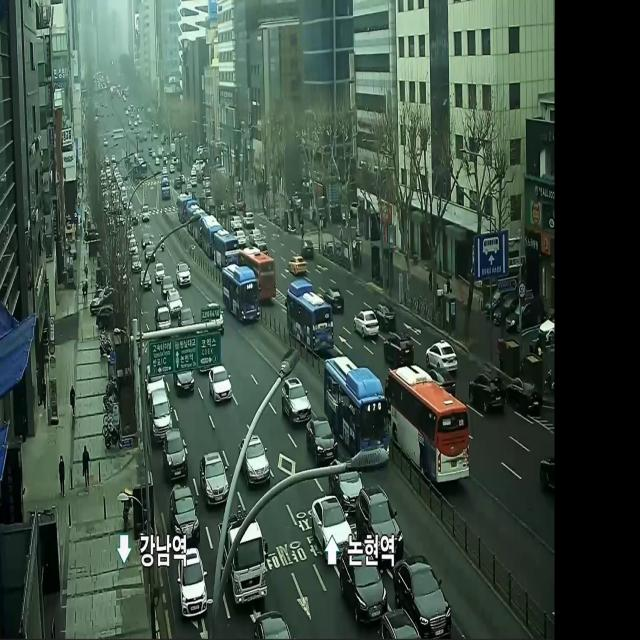car: (387, 361, 472, 486), (324, 351, 391, 467), (287, 280, 333, 354), (222, 264, 256, 326), (241, 248, 275, 302), (215, 230, 237, 264)
motorcycle: (393, 549, 453, 634), (220, 524, 268, 602), (340, 548, 384, 624), (357, 487, 402, 550), (179, 546, 208, 624), (311, 496, 347, 550), (170, 486, 200, 545), (507, 370, 541, 418), (200, 450, 228, 508), (468, 369, 502, 416), (282, 376, 310, 424), (240, 438, 269, 484), (308, 412, 334, 460), (330, 458, 359, 496), (173, 353, 195, 399), (166, 433, 186, 478), (152, 392, 172, 437), (428, 336, 456, 368), (255, 613, 289, 639), (384, 332, 413, 362), (208, 368, 232, 402), (202, 214, 219, 253), (352, 310, 376, 336), (327, 280, 344, 314), (146, 360, 164, 391), (376, 299, 393, 331), (290, 250, 304, 275), (168, 290, 181, 315), (156, 306, 170, 329), (178, 264, 191, 286), (180, 308, 193, 326)
